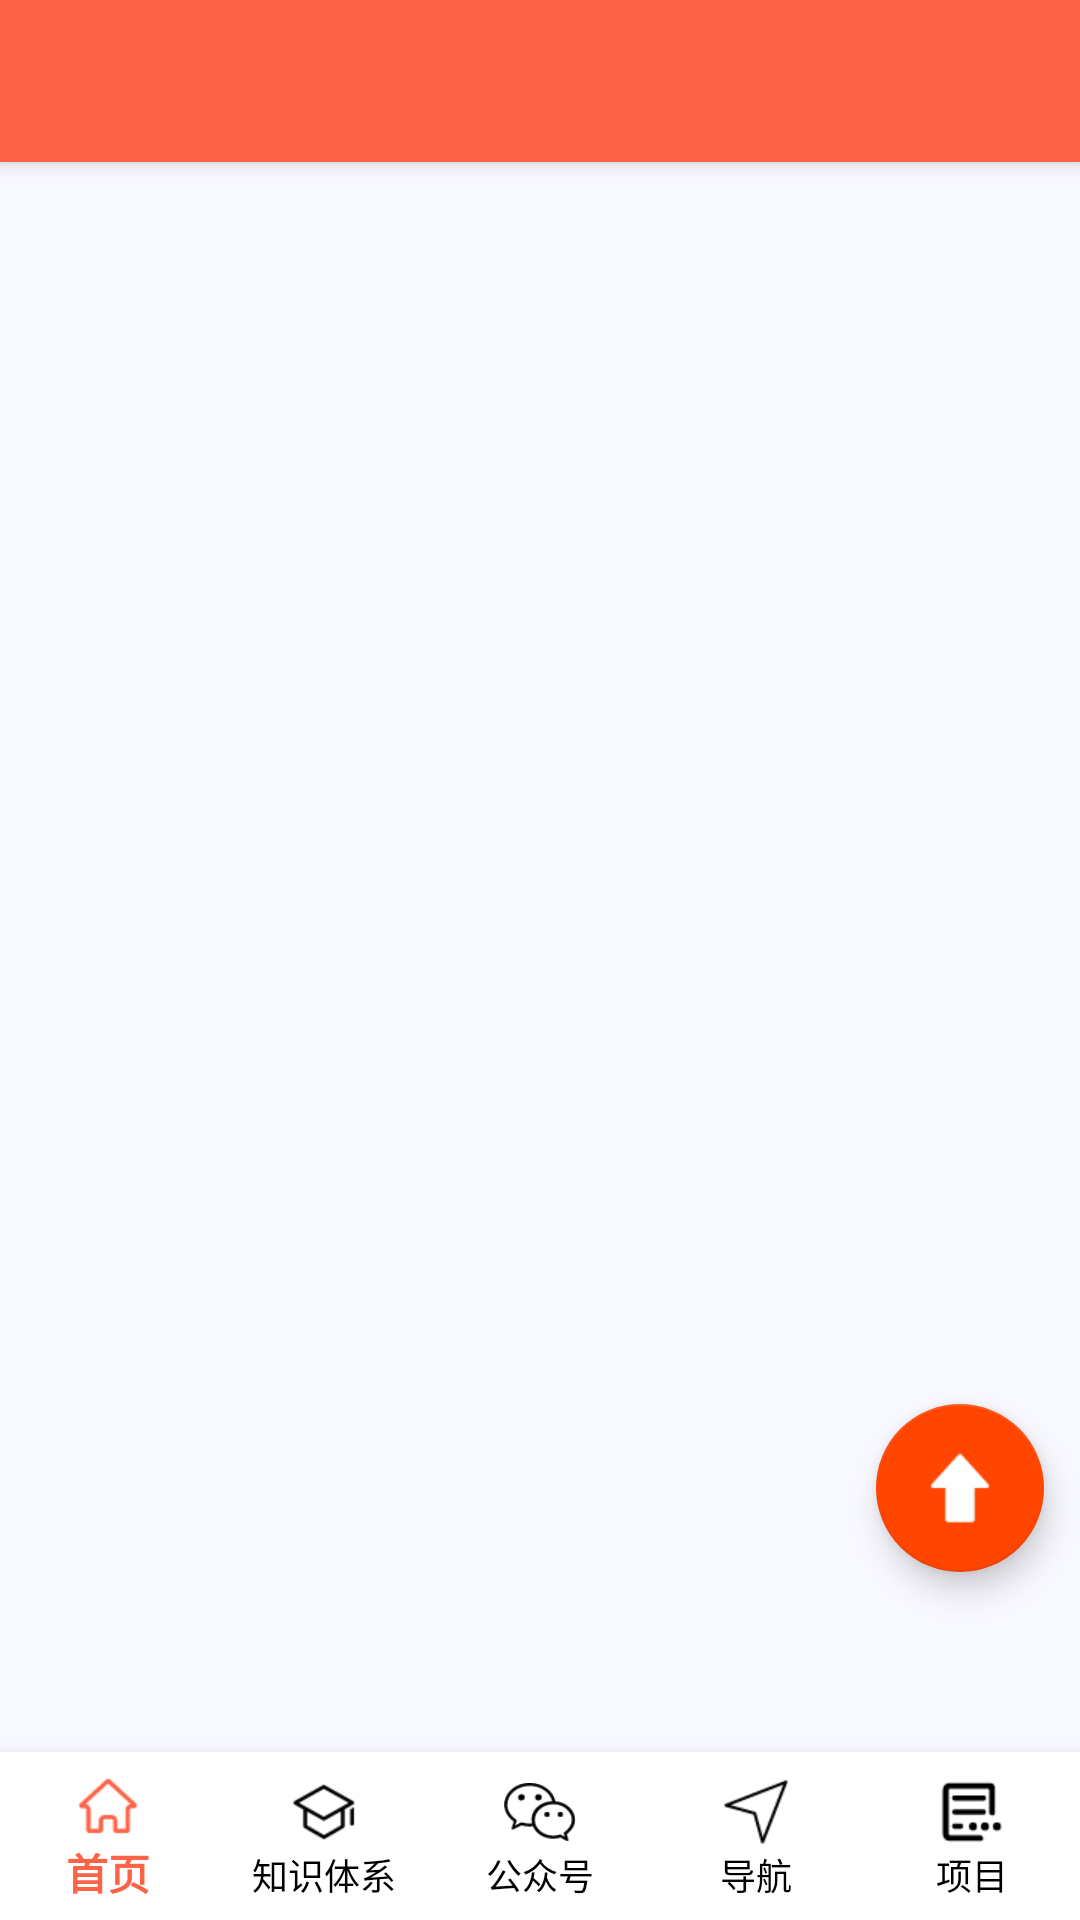

Named icons in this screenshot (1080px x 1920px) and their centers, point (x, y):
arrow up: point (960, 1488)
